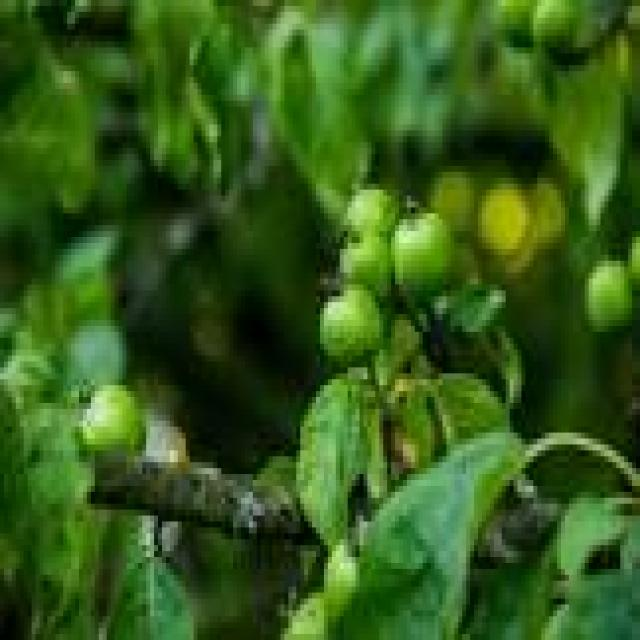apple: (391, 213, 450, 302), (320, 284, 379, 361), (79, 385, 142, 450), (340, 231, 387, 296), (585, 261, 628, 326), (344, 184, 395, 237)
